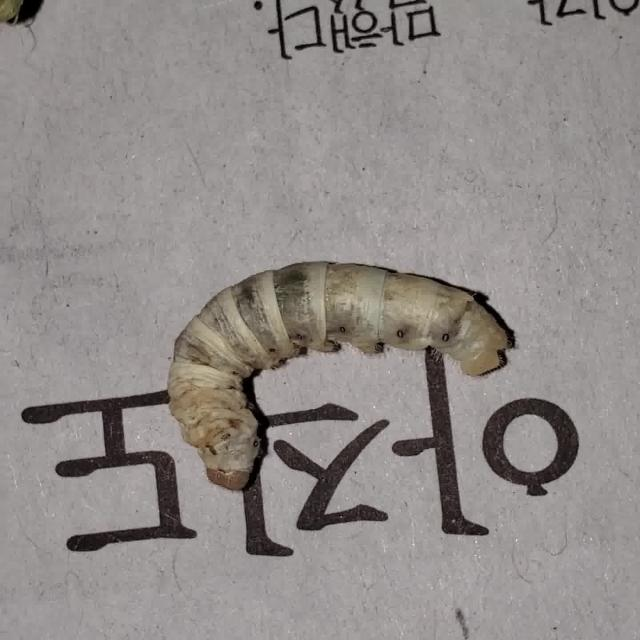Grasserie: (147, 227, 511, 520)
